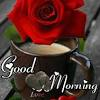rose: (8, 1, 89, 46)
